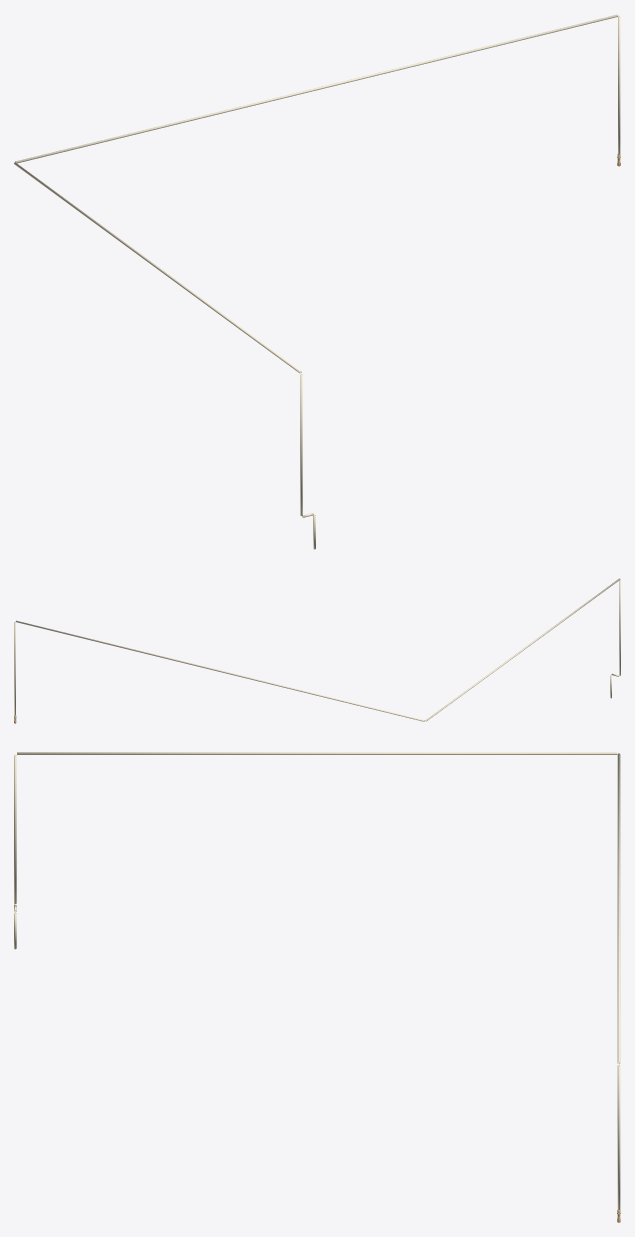
Rendered from pipes_supply__water-well_and_softener-yes_and_flowsmart-yes_and_plumbing-cpvc__r4t.glb.
3 views of the same model, one above another, from view 1: azimuth 30°, elevation 25°; view 2: azimuth 150°, elevation 25°; view 3: azimuth 270°, elevation 25° (orthographic). The views are drawn at different scales.
Visible parts, largest first — view 1: pipe_supply_well_to_softener_fs; view 2: pipe_supply_well_to_softener_fs; view 3: pipe_supply_well_to_softener_fs.
Part boxes in pixels (box(x1,y1,x2,y2)): pipe_supply_well_to_softener_fs: box(14, 14, 620, 549); pipe_supply_well_to_softener_fs: box(14, 578, 620, 721); pipe_supply_well_to_softener_fs: box(14, 752, 620, 1209).
Size of the model in its own units: 6.45 by 1.83 by 5.31.
